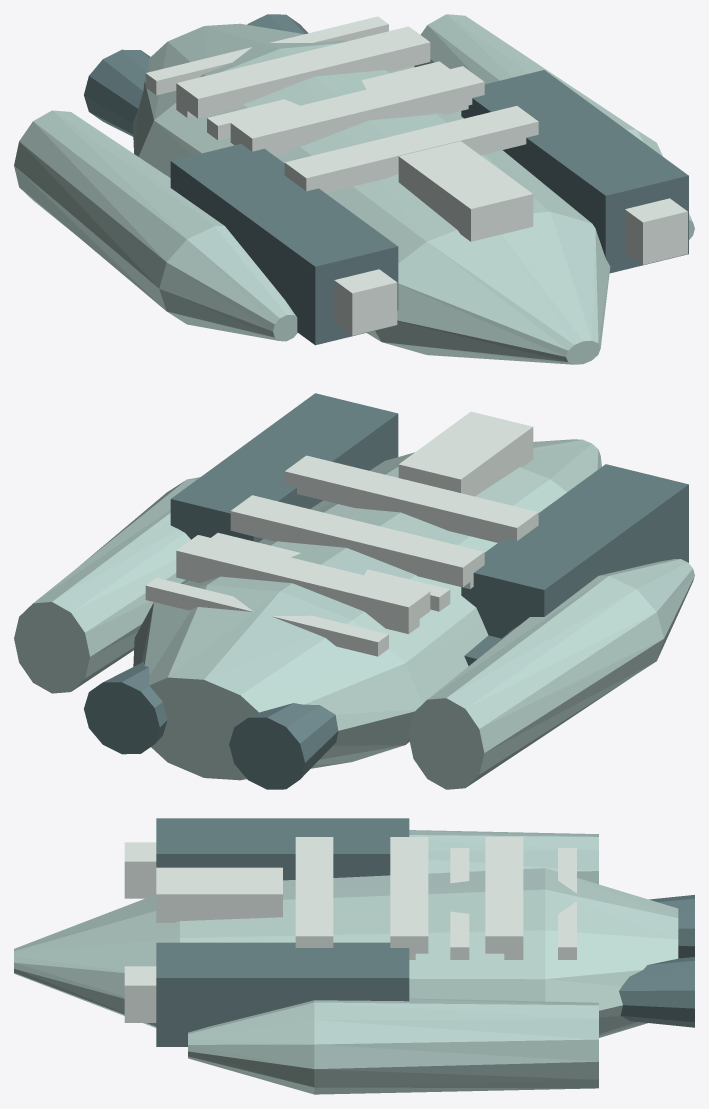
The picture shows the model from 3 angles, top to bottom: view 1: azimuth 30°, elevation 25°; view 2: azimuth 150°, elevation 25°; view 3: azimuth 270°, elevation 25°; orthographic projection. The views are drawn at different scales.
Bounding box in the file's own units: 3.36 × 1.1 × 4.48.
